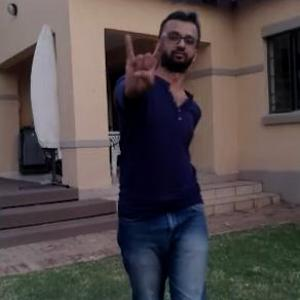takeoff-hand: (111, 23, 167, 100)
